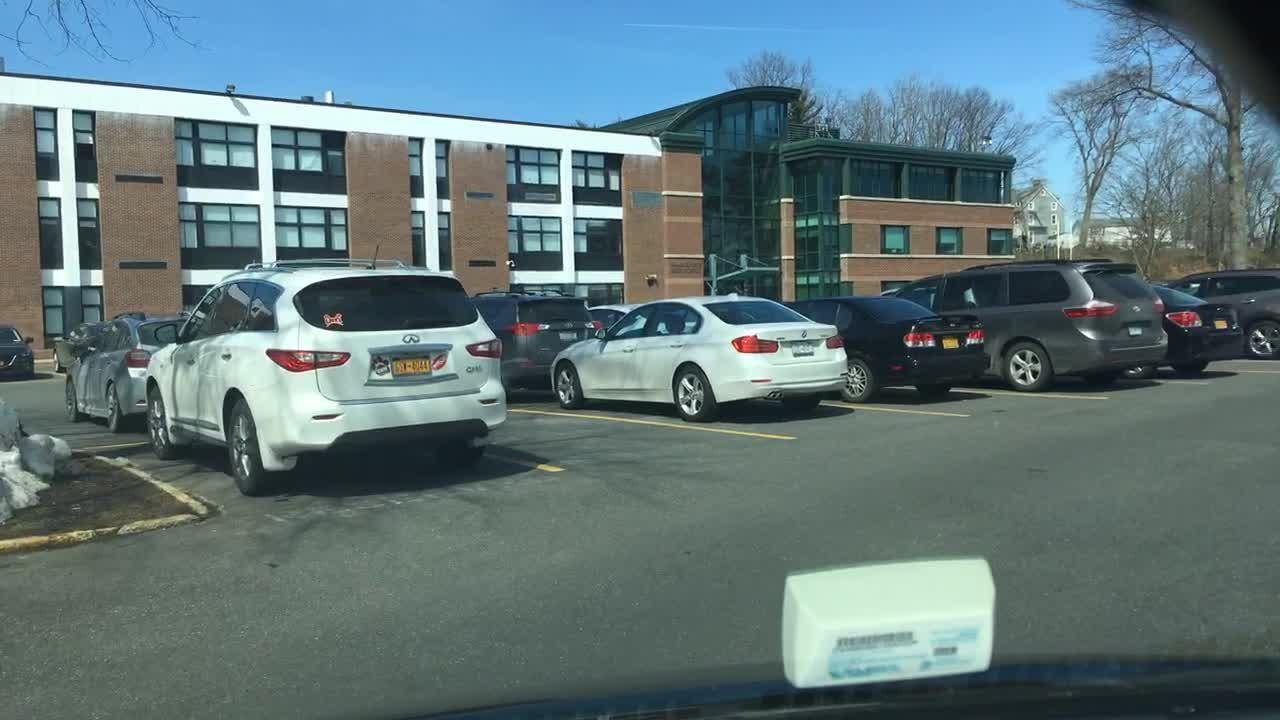Infiniti: (392, 328, 425, 347)
